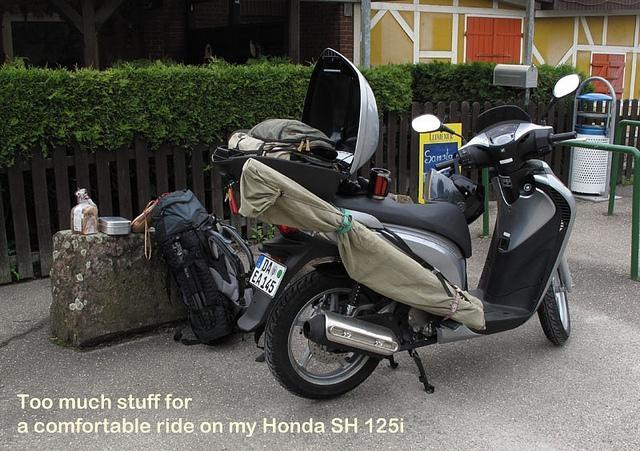motorcycle: (219, 74, 581, 403)
